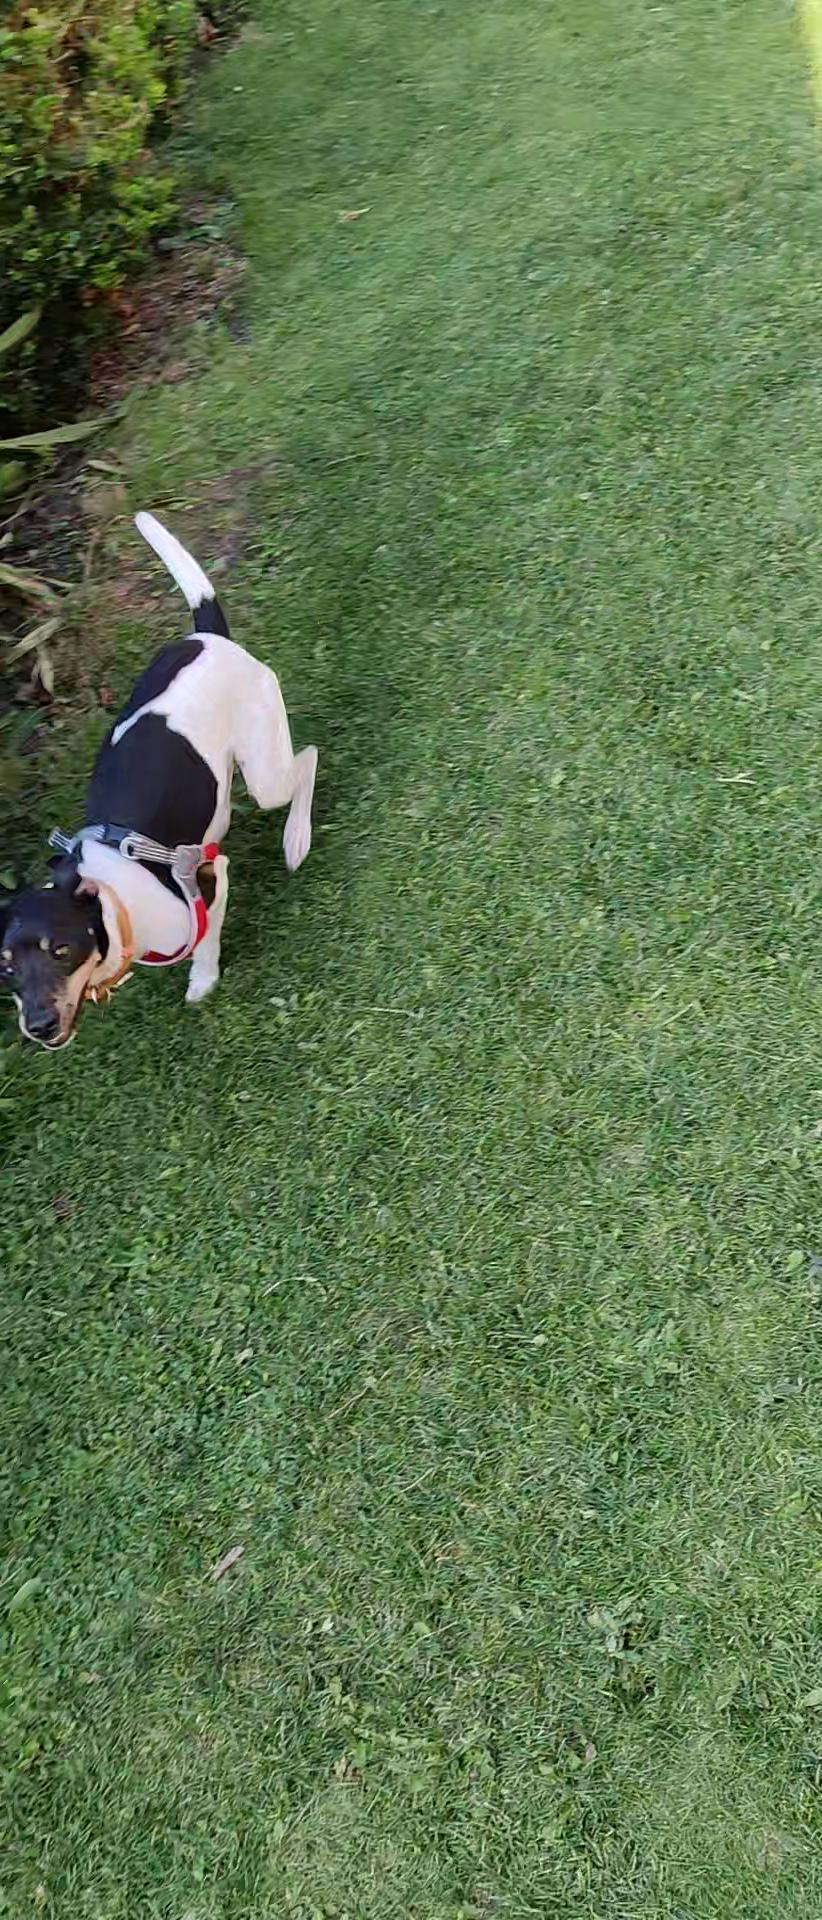Dog: (0, 500, 332, 1076)
